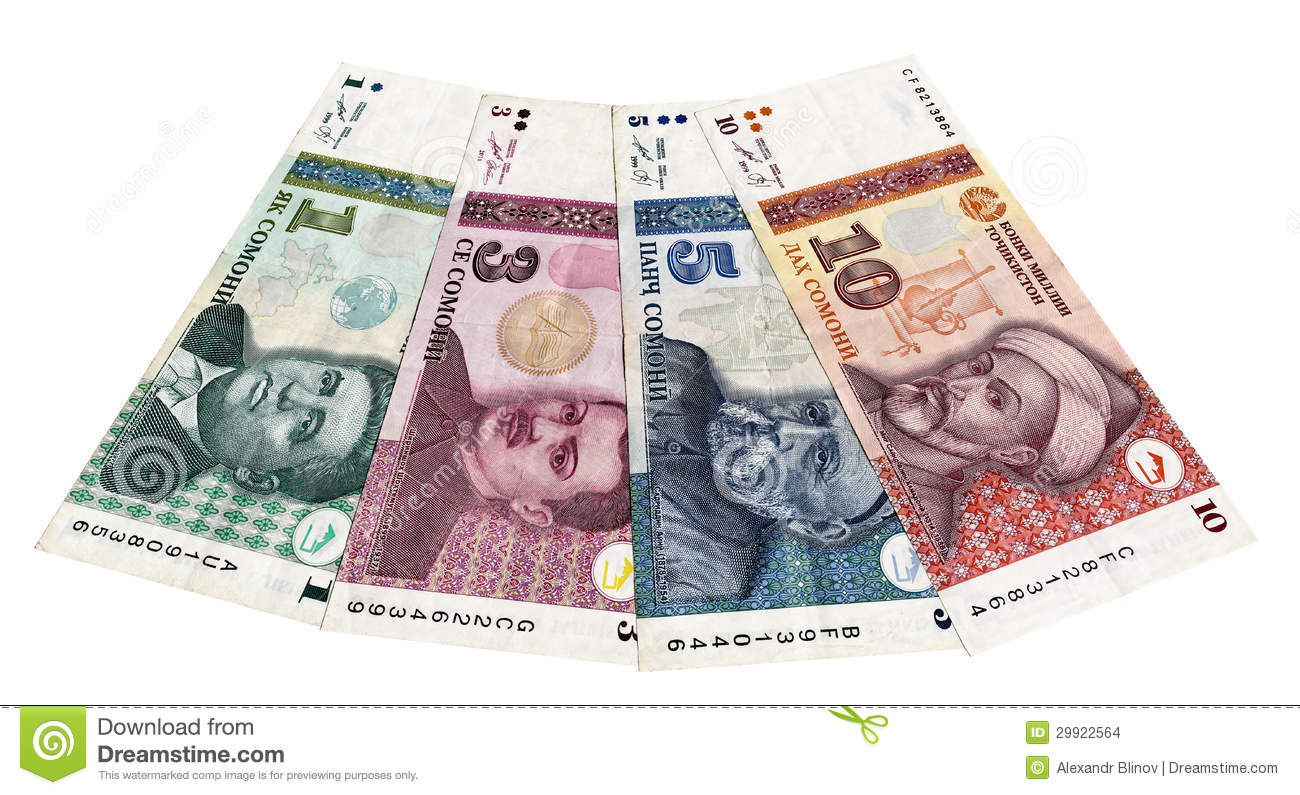cash: (696, 55, 1254, 654), (32, 61, 483, 625), (612, 63, 956, 671), (320, 93, 616, 669)
